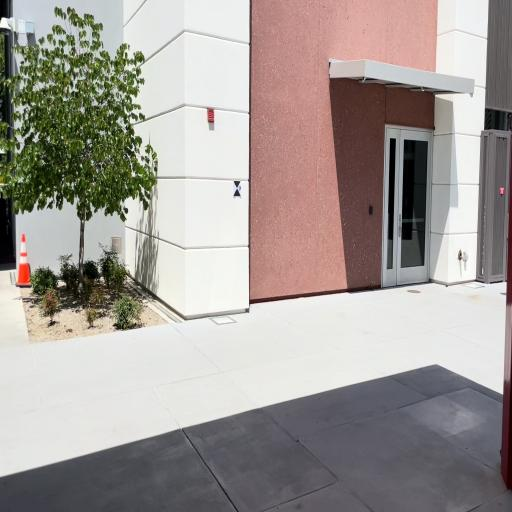target9: (233, 181, 242, 197)
